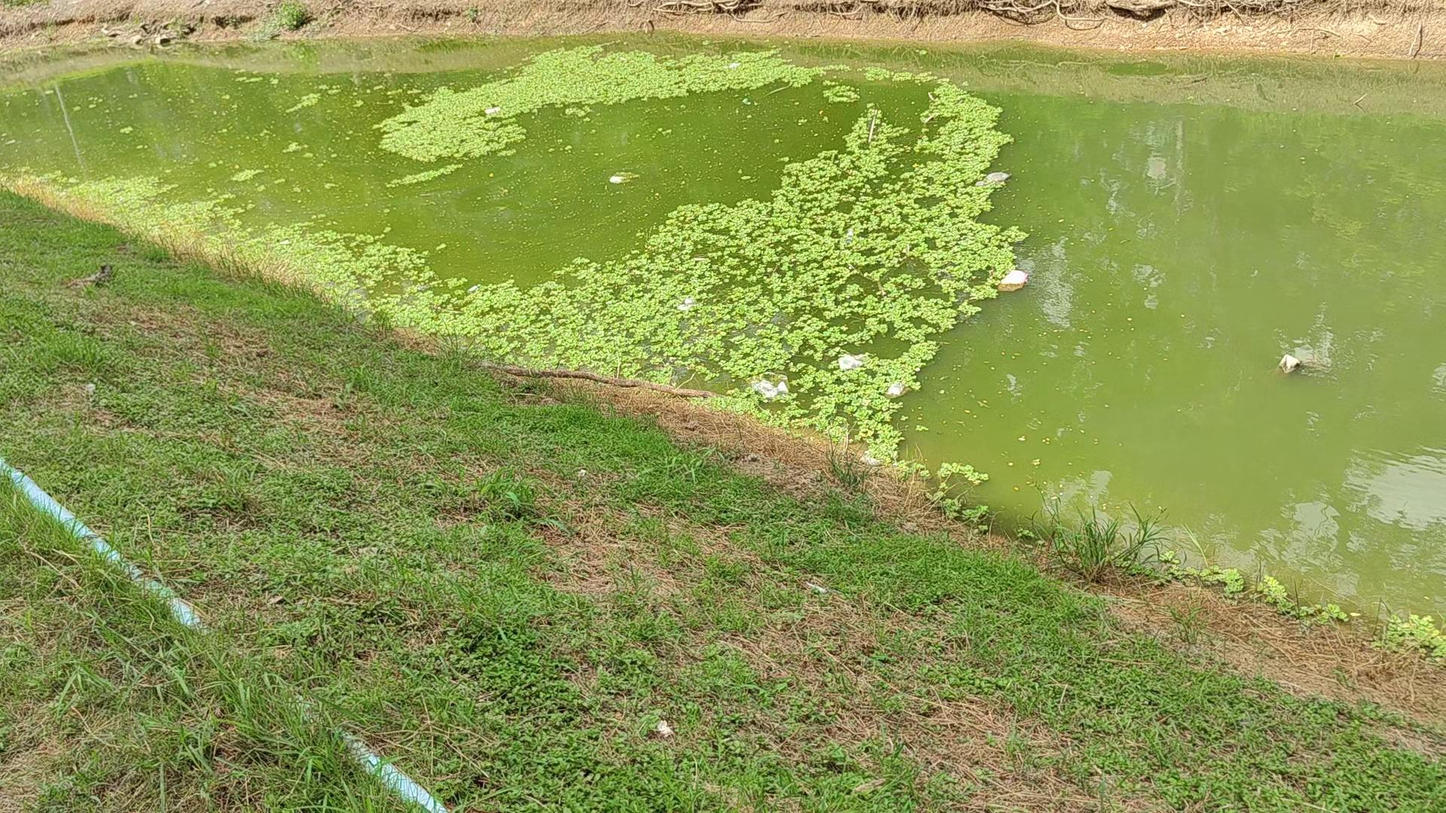trash: (752, 376, 788, 400), (999, 268, 1028, 291), (976, 172, 1009, 185), (837, 354, 863, 370), (1280, 354, 1301, 373), (886, 382, 905, 397), (677, 297, 695, 310), (845, 227, 854, 244), (484, 106, 500, 114), (610, 175, 623, 182), (728, 63, 740, 68), (691, 257, 706, 261)
